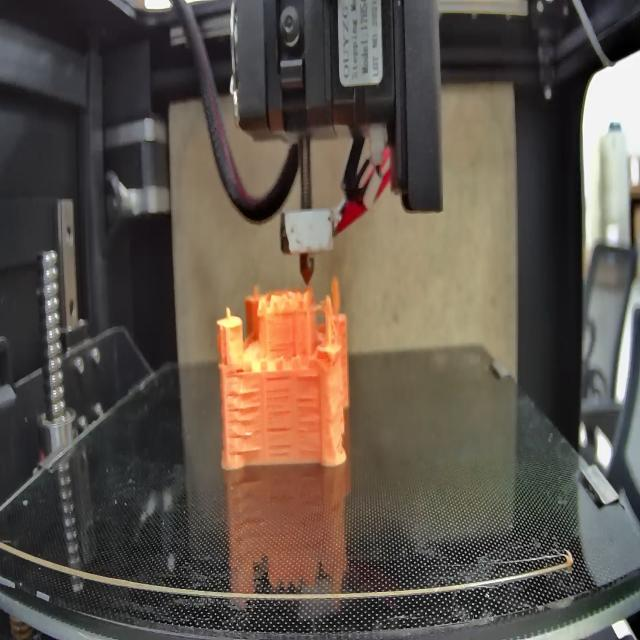cracks: (226, 389, 262, 457), (295, 392, 321, 454), (264, 374, 291, 415), (265, 422, 291, 459), (294, 367, 324, 383), (233, 364, 251, 378)
